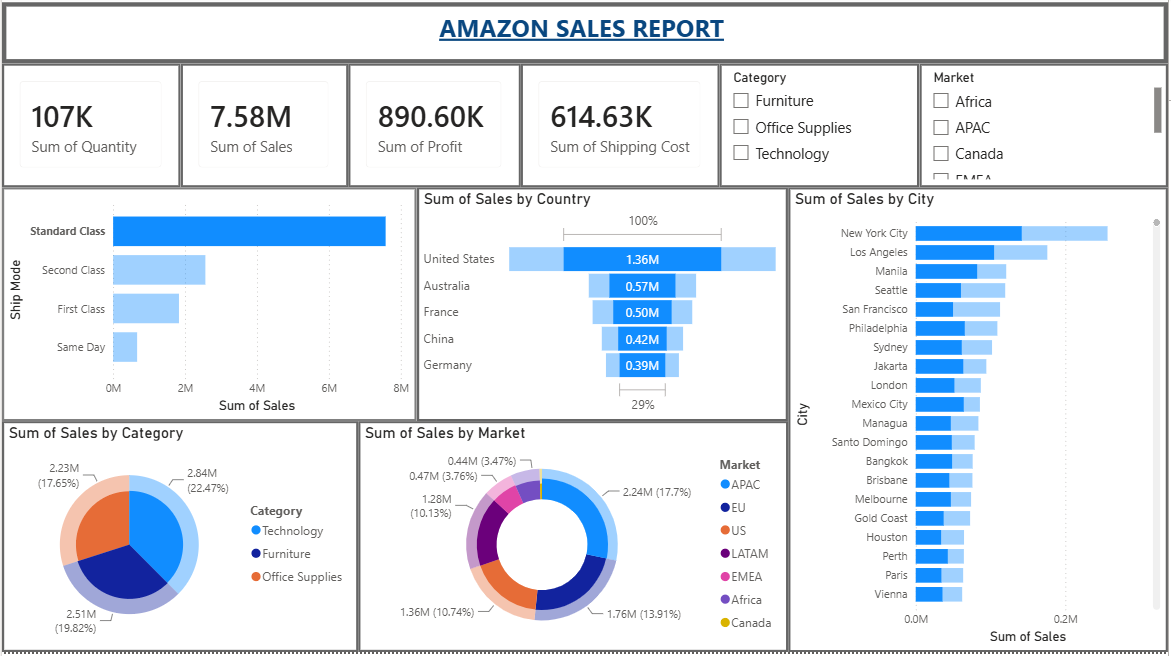

The dashboard page shown, as its layout file describes it:
{"tool":"powerbi","page":{"name":"Page 1","canvas":[1280,720],"ordinal":0},"visuals":[{"type":"pieChart","fields":{"Category":["Orders.Category"],"Y":["Sum(Orders.Sales)"]},"box":[0,466.6,391.1,253.9],"z":0},{"type":"donutChart","fields":{"Category":["Orders.Market"],"Y":["Sum(Orders.Sales)"]},"box":[391.1,466.6,472,253.9],"z":1000},{"type":"barChart","fields":{"Category":["Orders.Ship Mode"],"Y":["Sum(Orders.Sales)"]},"box":[0,209.9,455.6,256.6],"z":2000},{"type":"barChart","fields":{"Category":["Orders.City"],"Y":["Sum(Orders.Sales)"]},"box":[863.1,209.9,417.2,510.5],"z":3000},{"type":"funnel","fields":{"Category":["Orders.Country"],"Y":["Sum(Orders.Sales)"]},"box":[455.6,209.9,407.5,256.6],"z":4000},{"type":"textbox","box":[0,6.9,1280.3,67.2],"z":5000},{"type":"cardVisual","fields":{"Data":["Sum(Orders.Quantity)"]},"box":[0,74.1,196.2,135.8],"z":6000},{"type":"cardVisual","fields":{"Data":["Sum(Orders.Sales)"]},"box":[196.2,74.1,183.9,135.8],"z":7000},{"type":"cardVisual","fields":{"Data":["Sum(Orders.Profit)"]},"box":[380.1,74.1,189.4,135.8],"z":8000},{"type":"cardVisual","fields":{"Data":["Sum(Orders.Shipping Cost)"]},"box":[569.5,74.1,218.2,135.8],"z":9000},{"type":"slicer","fields":{"Values":["Orders.Category"]},"box":[787.7,74.1,219.6,135.8],"z":9001},{"type":"slicer","fields":{"Values":["Orders.Market"]},"box":[1007.2,74.1,273.1,135.8],"z":9002}]}

Visuals, with their boxes in screenshot pixels (x1, y1, x2, y2), scaled from the page's 1280x720 canvas onto the 1171x656 screenshot:
pieChart - Orders.Category x Sum(Orders.Sales): locate(0, 425, 358, 655)
donutChart - Orders.Market x Sum(Orders.Sales): locate(358, 425, 790, 655)
barChart - Orders.Ship Mode x Sum(Orders.Sales): locate(0, 191, 417, 425)
barChart - Orders.City x Sum(Orders.Sales): locate(790, 191, 1170, 655)
funnel - Orders.Country x Sum(Orders.Sales): locate(417, 191, 790, 425)
textbox: locate(0, 6, 1170, 68)
cardVisual - Sum(Orders.Quantity): locate(0, 68, 179, 191)
cardVisual - Sum(Orders.Sales): locate(179, 68, 348, 191)
cardVisual - Sum(Orders.Profit): locate(348, 68, 521, 191)
cardVisual - Sum(Orders.Shipping Cost): locate(521, 68, 721, 191)
slicer - Orders.Category: locate(721, 68, 922, 191)
slicer - Orders.Market: locate(921, 68, 1170, 191)
